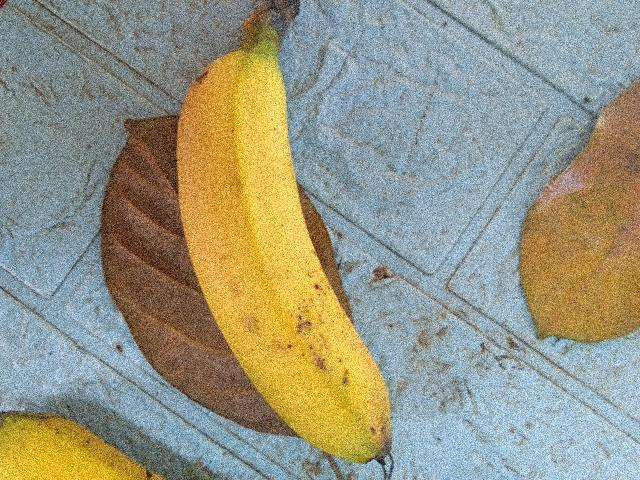ripe: (158, 55, 447, 479)
